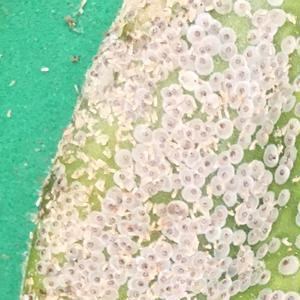Femea: (222, 68, 249, 95), (253, 12, 280, 36), (174, 266, 201, 287), (138, 253, 157, 279), (31, 236, 49, 262), (76, 260, 102, 277), (157, 274, 174, 299), (88, 211, 118, 225), (113, 255, 137, 272), (139, 160, 168, 174), (57, 274, 75, 296), (89, 228, 116, 242), (191, 121, 213, 138), (85, 287, 116, 299), (221, 28, 233, 57), (116, 237, 136, 254), (90, 273, 115, 286), (35, 261, 55, 276), (83, 236, 95, 261), (61, 198, 75, 219), (214, 119, 228, 139), (74, 276, 87, 297), (274, 167, 288, 185), (278, 257, 295, 271), (186, 49, 197, 69), (134, 278, 148, 293), (43, 279, 57, 294), (264, 148, 275, 166), (210, 179, 223, 194), (215, 166, 230, 179), (231, 55, 246, 68), (197, 43, 214, 54), (225, 177, 237, 190), (222, 191, 235, 203), (197, 56, 207, 71), (116, 172, 127, 183)
Macho: (112, 119, 136, 131), (83, 165, 96, 184), (70, 165, 83, 183), (95, 131, 109, 147), (89, 155, 106, 168), (113, 130, 128, 143), (96, 176, 108, 191), (75, 148, 86, 163), (248, 137, 259, 150), (150, 109, 158, 126), (204, 181, 212, 198), (142, 95, 151, 109), (186, 207, 196, 219), (151, 92, 158, 107), (171, 185, 178, 200)
